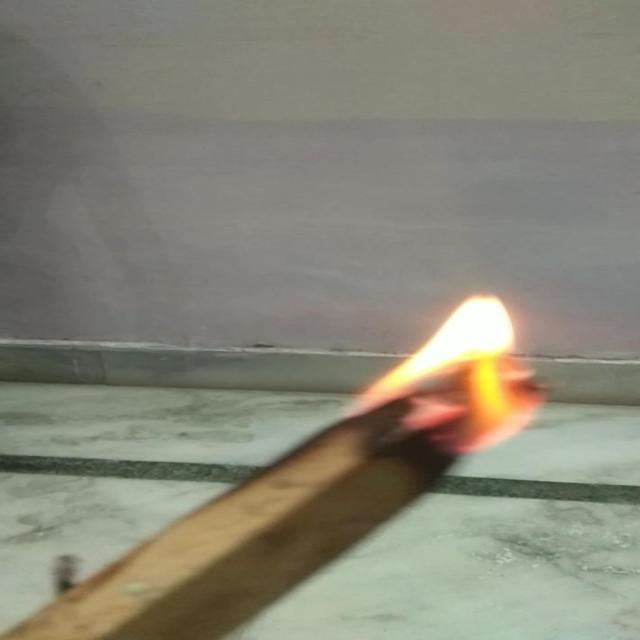smoke: (380, 286, 542, 442)
